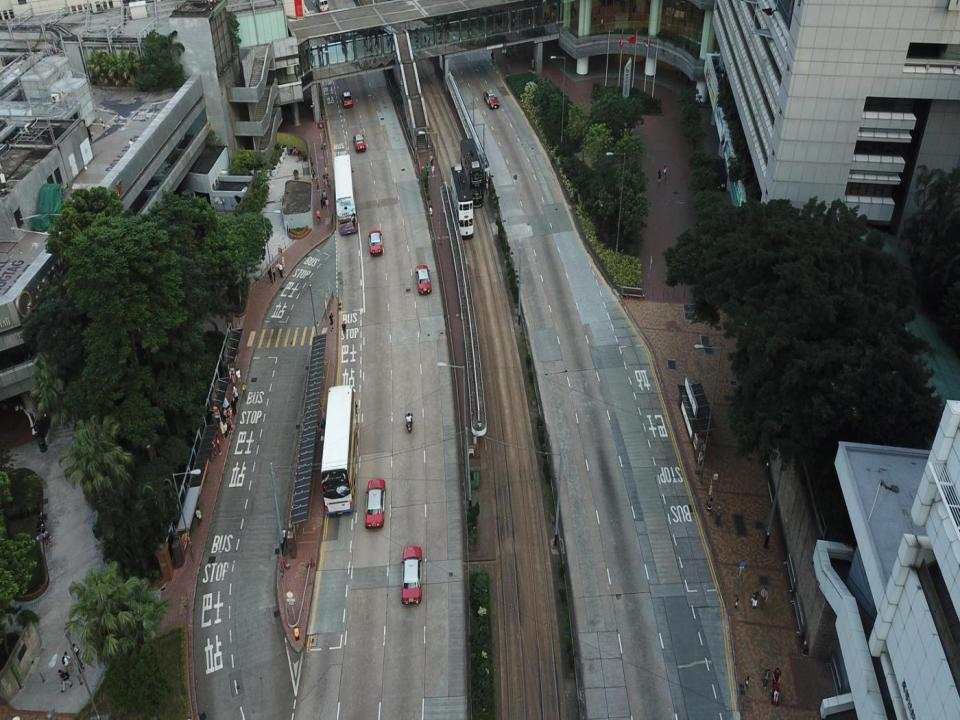bus: (319, 382, 359, 520), (444, 162, 478, 240), (458, 132, 490, 211), (332, 154, 359, 236)
car: (397, 540, 424, 603), (365, 480, 389, 531), (414, 263, 433, 294), (368, 228, 384, 256), (483, 88, 499, 110), (353, 132, 366, 152), (341, 89, 354, 107)
